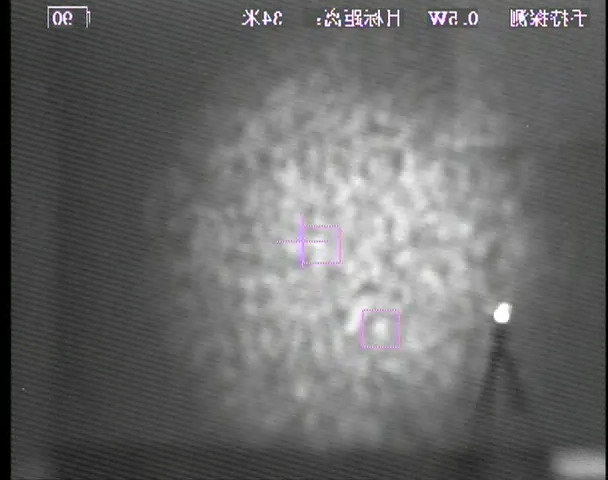my: (492, 301, 510, 324)
